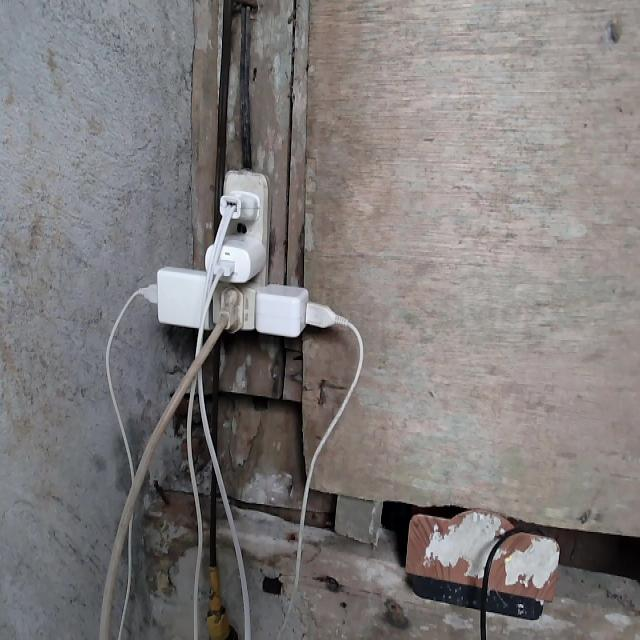-: (146, 165, 322, 340)
